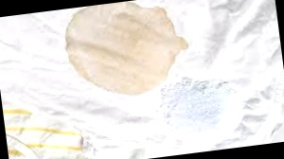coffee: (60, 0, 194, 103)
